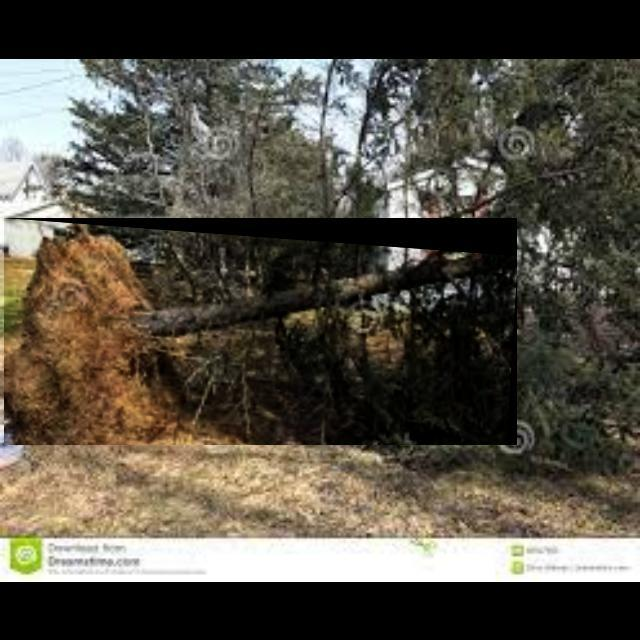fallen_tree: (4, 218, 518, 446)
